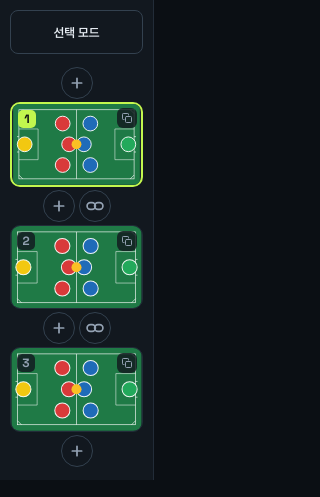
Scenario: 선택 모드 진입/이탈 › 카드를 체크한 뒤 모드를 끄면 체크가 전부 풀린다(화면 상태 — 리듀서에 안 남는다)
What coordinates should you click on to do the following:
click the button "선택 모드"
I would click on:
 (76, 32)
Its box is [10, 10, 143, 54].
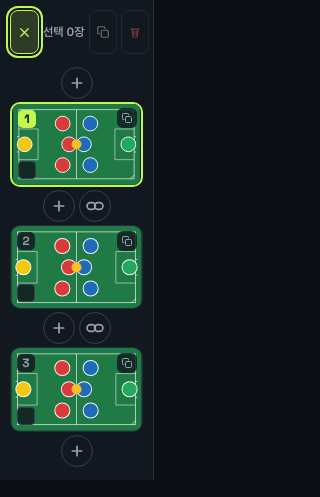
What coordinates should you click on to do the following:
click the button "1"
I would click on:
 (76, 144)
Its box is [10, 102, 143, 187].
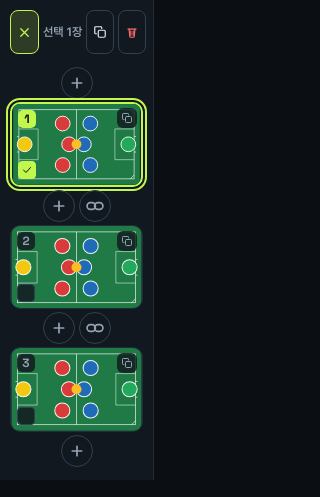
What coordinates should you click on to do the following:
click the button "2"
I would click on:
 (76, 267)
Its box is [10, 225, 143, 309].
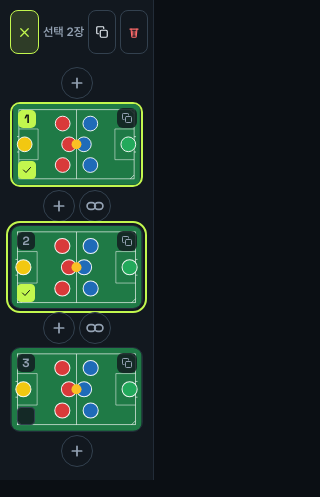
Expected: the text "선택 2장" is shown, [43, 25, 84, 39]
What coordinates should you click on to do the following:
click the button named "선택 모드 끄기"
I would click on:
 (24, 32)
Its box is [10, 10, 39, 54].
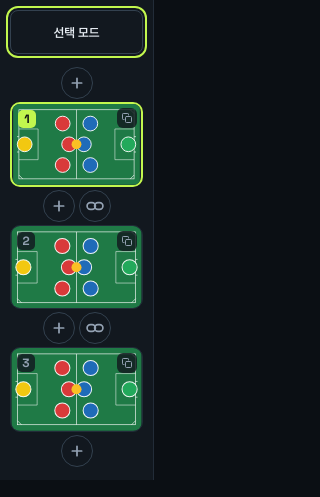
Expected: the text "선택 2장" is gone
What coordinates should you click on to do the following:
click the button "선택 모드"
I would click on:
 (76, 32)
Its box is [10, 10, 143, 54].
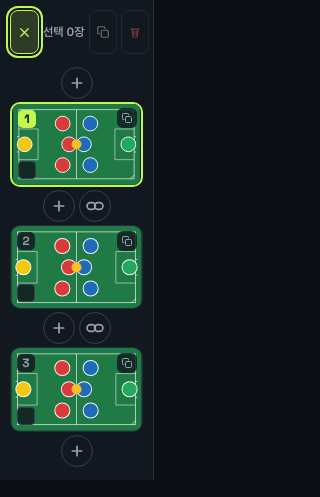
Expected: the text "선택 0장" is shown, [43, 25, 85, 39]
